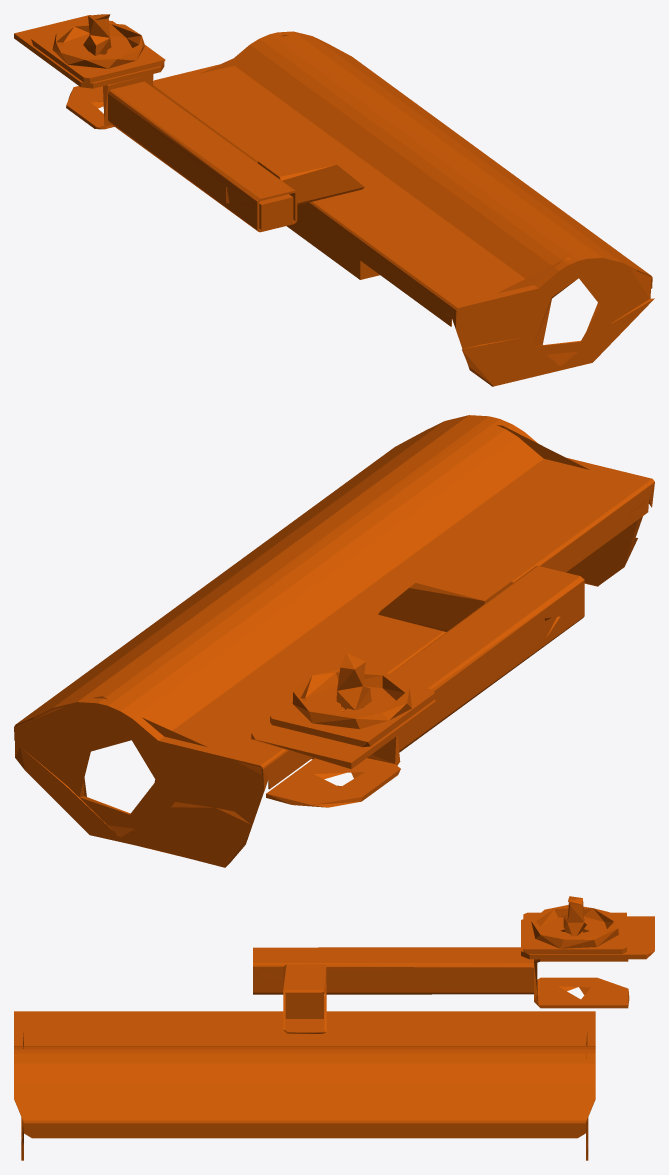
The model's file is Maehkopf.dae.
3 views of the same model, one above another, from view 1: azimuth 30°, elevation 25°; view 2: azimuth 150°, elevation 25°; view 3: azimuth 270°, elevation 25° (orthographic). The views are drawn at different scales.
Visible parts, largest first — view 1: node; view 2: node; view 3: node.
Part boxes in pixels (box(x1,y1,x2,y2)): node: box(14, 14, 654, 386); node: box(14, 415, 654, 867); node: box(14, 896, 654, 1160).
Size of the model in its own units: 0.7637 by 1.48 by 0.4384.
